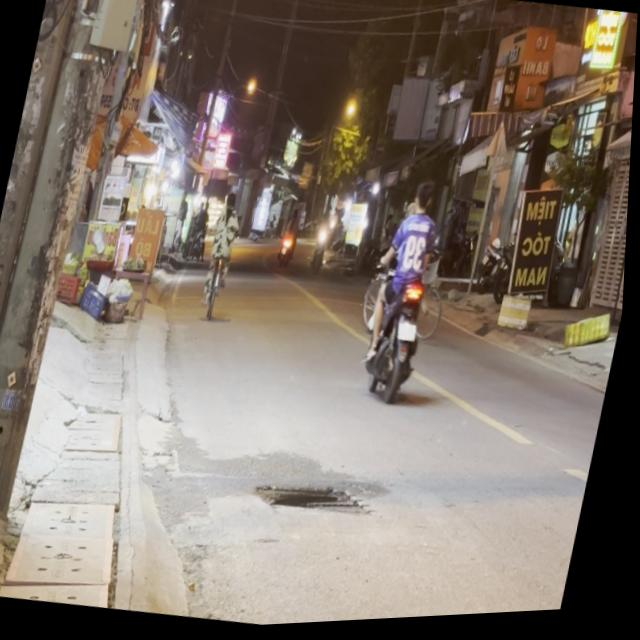licenseplate: (356, 175, 459, 409)
motorcyclist: (416, 181, 441, 217)
nohelmet: (401, 324, 423, 347)
